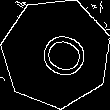O_W: (25, 24, 87, 82)
